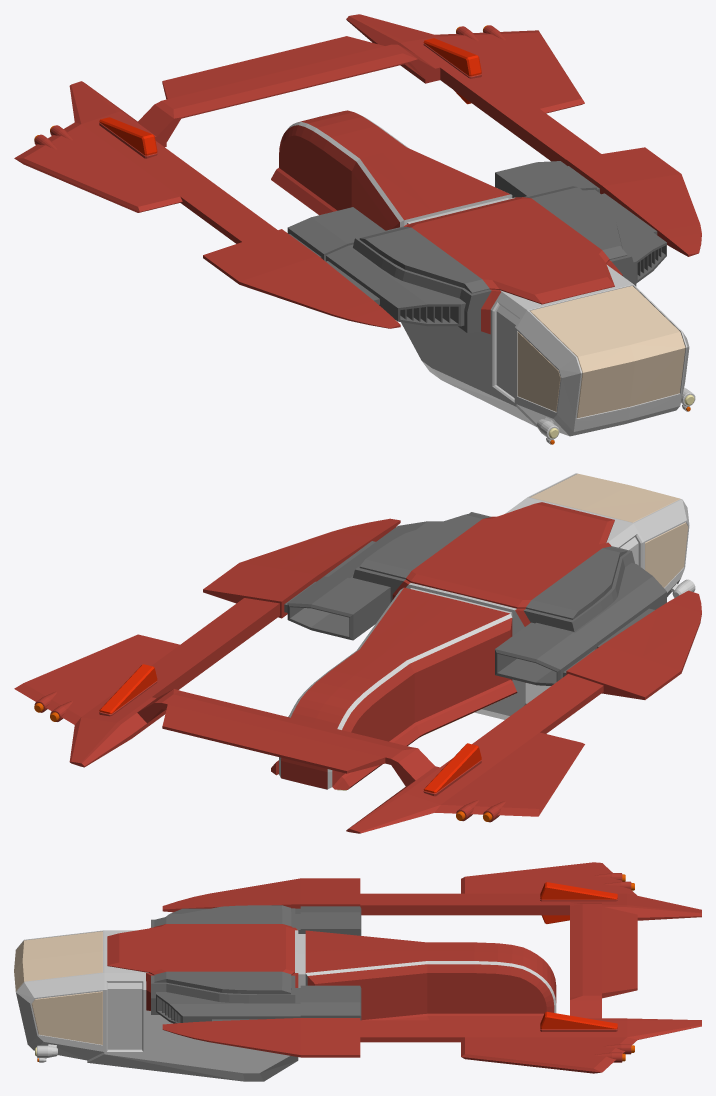
Rendered from Hospital Ship.dae.
3 renders of one model, top to bottom at view 1: azimuth 30°, elevation 25°; view 2: azimuth 150°, elevation 25°; view 3: azimuth 270°, elevation 25°, orthographic. The views are drawn at different scales.
Visible parts, largest first — view 1: Vessel; view 2: Vessel; view 3: Vessel.
Boxes of the visible parts, box(x1,y1,x2,y2) form: Vessel: box(14, 14, 701, 444); Vessel: box(14, 473, 701, 833); Vessel: box(14, 862, 701, 1081).
Bounding box in the file's own units: 19.56 × 27.13 × 4.9.
